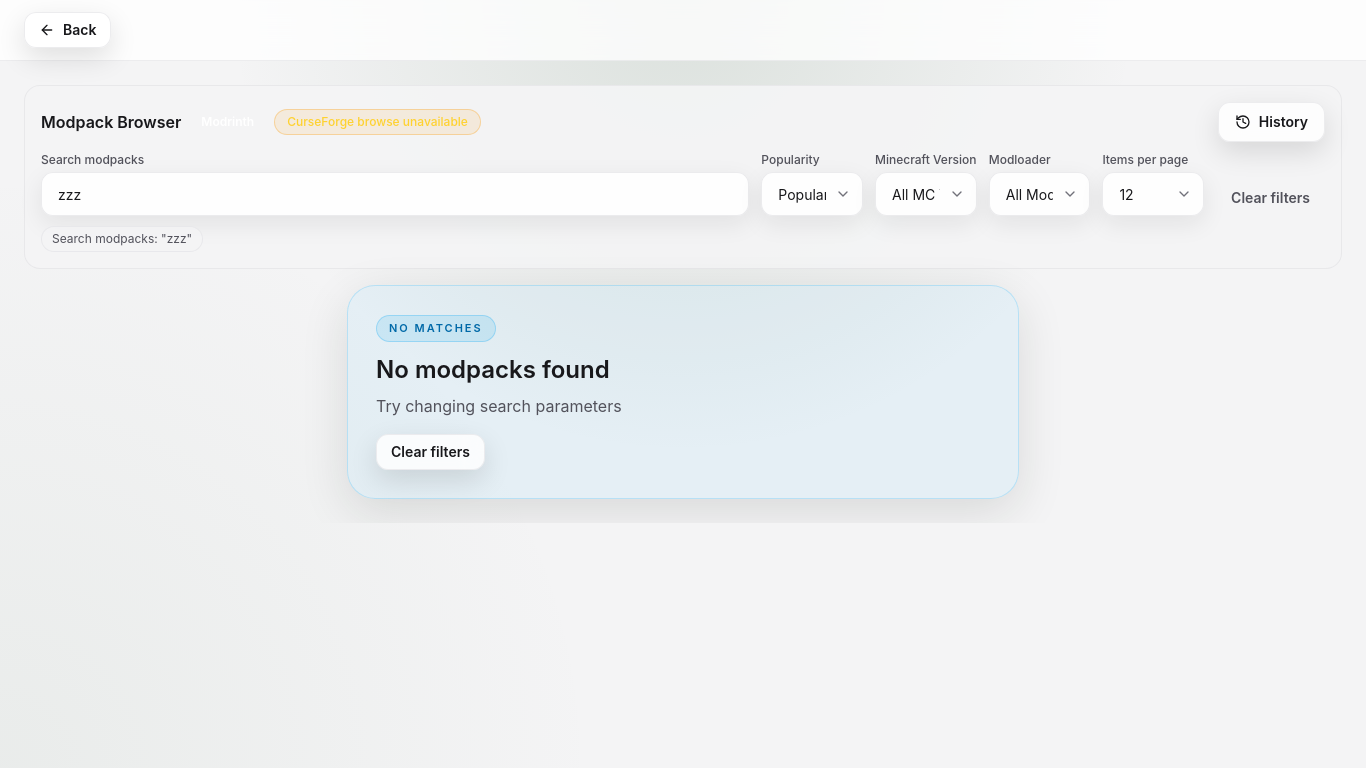
Scenario: ModpackBrowser degraded states › keeps zero-result filters distinct from the neutral empty browse state
The image size is (1366, 768).
Expected: the message "No modpacks found" is shown, [347, 285, 1019, 498]
Step 1. Click the button "Clear filters" below "Try changing search parameters" → (430, 452), box [376, 434, 485, 470]
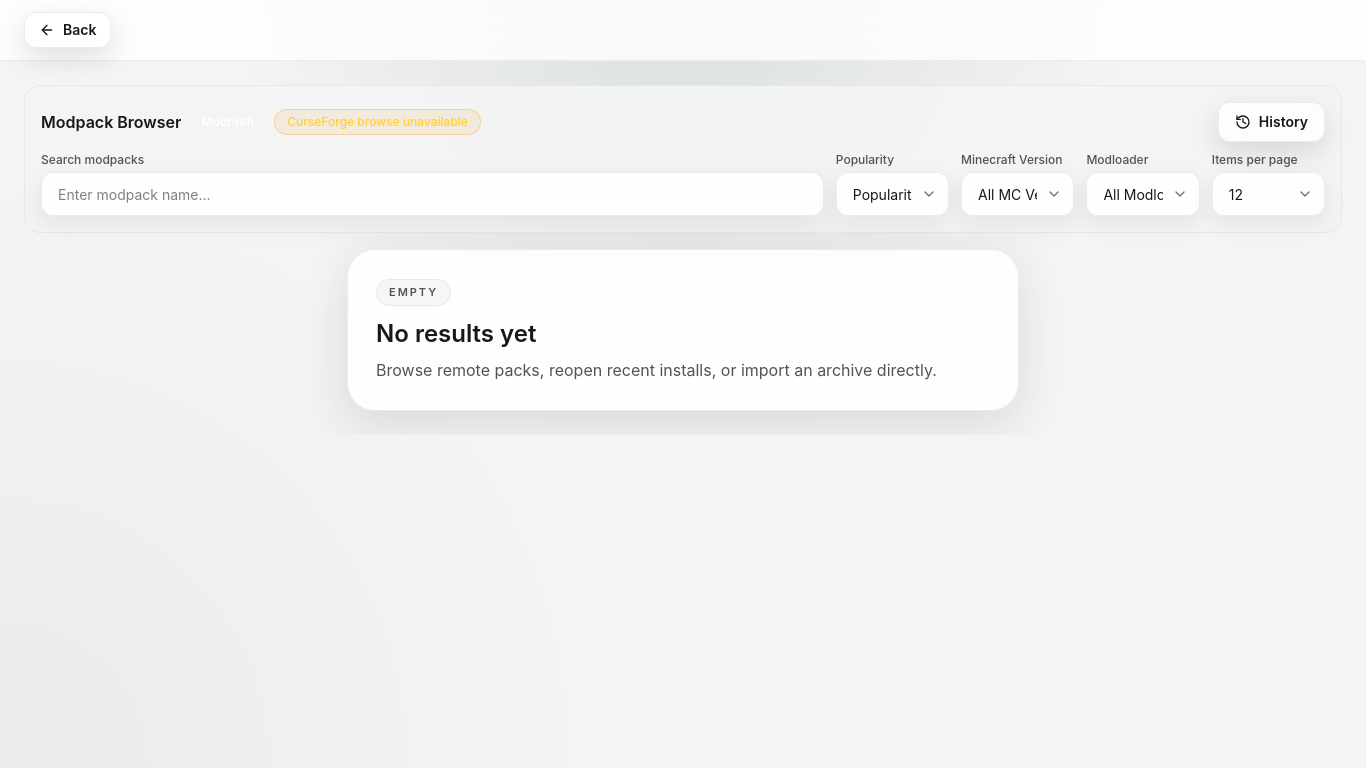
Expected: the button "History" is shown, [1218, 102, 1325, 142]
Expected: the field labelled "Enter modpack name..." is empty, [41, 172, 824, 216]
Expected: the message "No results yet" is shown, [347, 249, 1019, 410]
